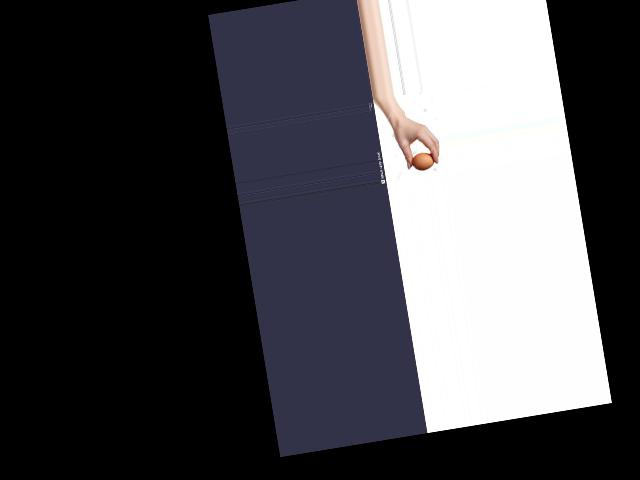egg: (410, 150, 434, 172)
